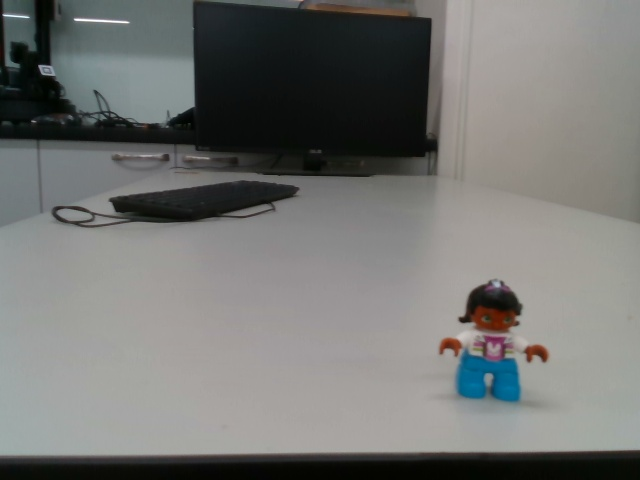people: (438, 275, 553, 405)
